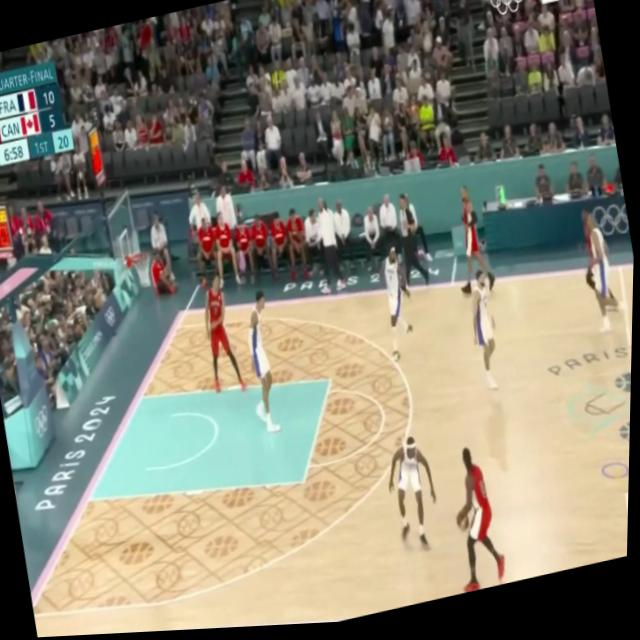ball_handler: (439, 442, 514, 599)
